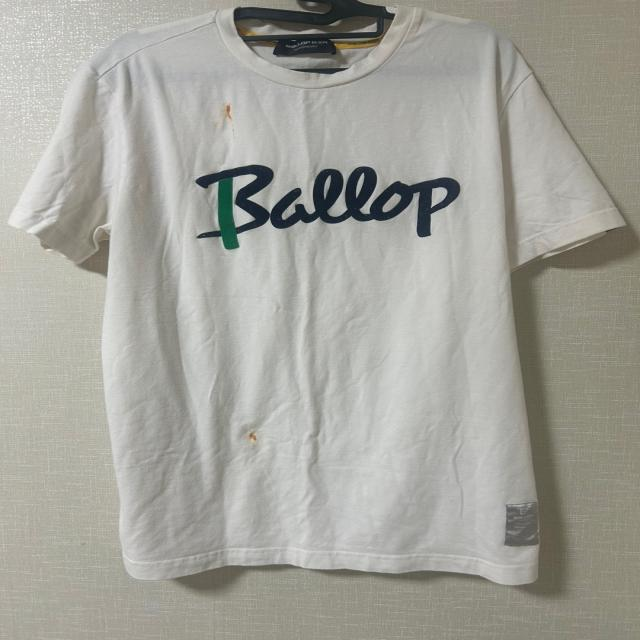stain: (245, 426, 268, 454), (223, 102, 242, 125)
